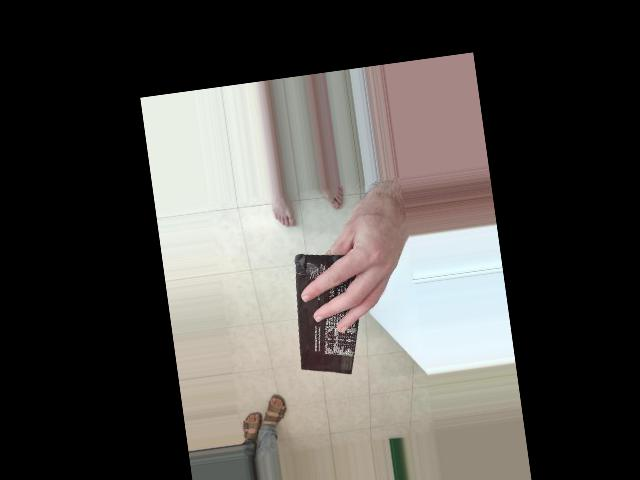chocolate: (216, 306, 359, 396)
